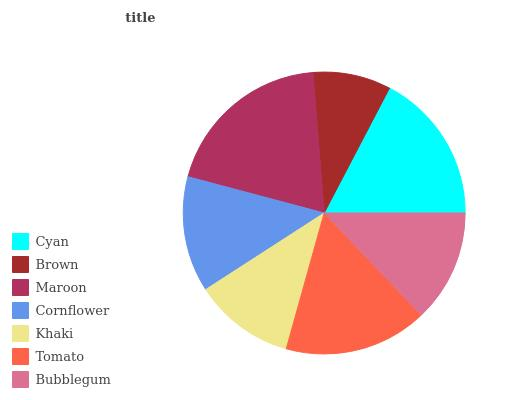legend: (0, 224, 137, 400)
sector: (187, 70, 323, 213), (287, 213, 421, 354), (324, 88, 466, 213), (206, 212, 327, 348), (182, 177, 325, 288), (325, 213, 466, 316), (313, 71, 389, 213)
